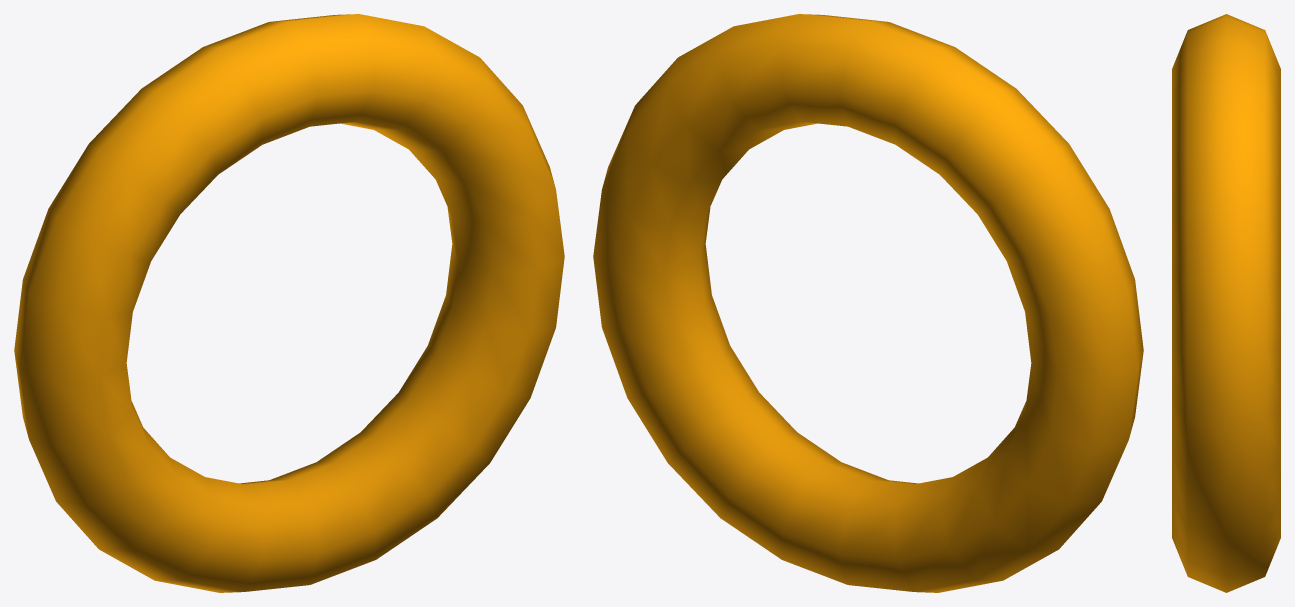
The model's file is Collectable_Ring_01.fbx.
3 views of the same model, side by side, from view 1: azimuth 30°, elevation 25°; view 2: azimuth 150°, elevation 25°; view 3: azimuth 270°, elevation 25° (orthographic). The views are drawn at different scales.
Visible parts, largest first — view 1: Collectable_Ring_01; view 2: Collectable_Ring_01; view 3: Collectable_Ring_01.
Part boxes in pixels (x1,y1,x2,y2): Collectable_Ring_01: (14,14,564,592); Collectable_Ring_01: (593,14,1143,592); Collectable_Ring_01: (1172,14,1280,592).
Bounding box in the file's own units: 79.54 × 79.54 × 14.87.
1 material, 1 textured.
